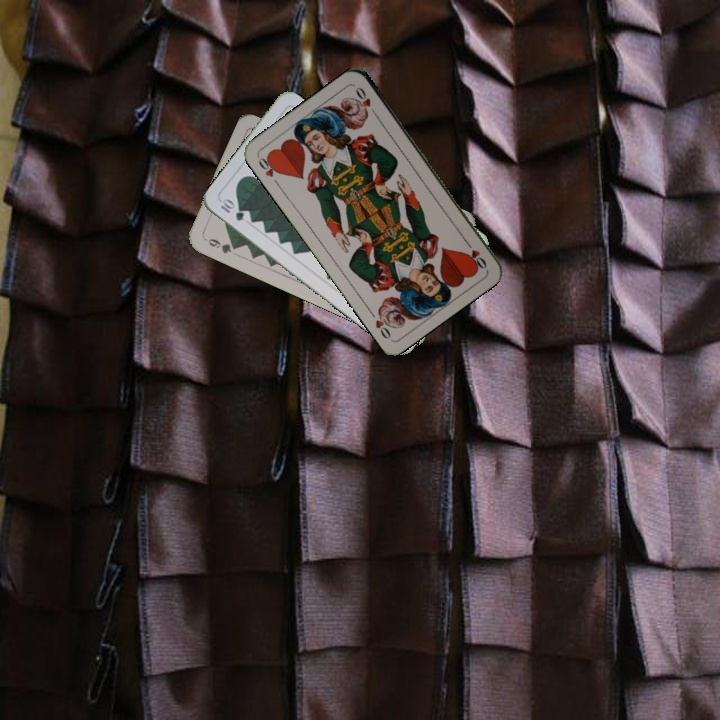G10: (216, 195, 247, 224)
G9: (200, 234, 240, 256)
HO: (254, 152, 283, 189), (460, 236, 489, 272)
